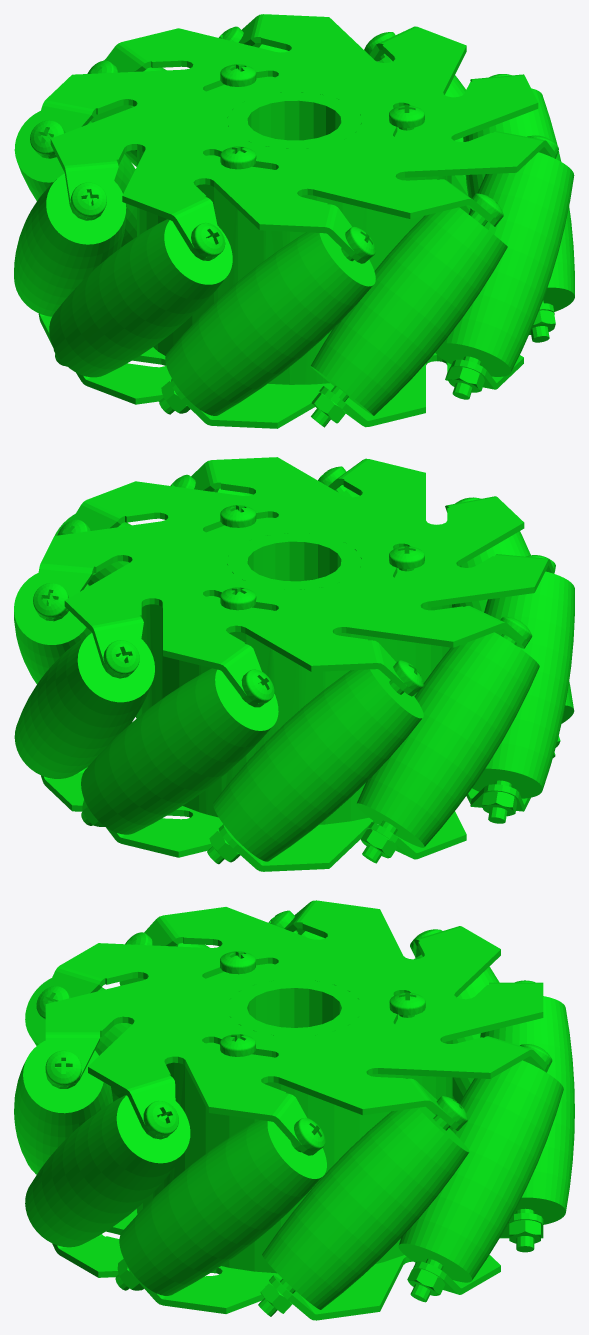
Rendered from left_back_wheel.dae.
3 views of the same model, one above another, from view 1: azimuth 30°, elevation 25°; view 2: azimuth 150°, elevation 25°; view 3: azimuth 270°, elevation 25° (orthographic).
Parts seen in each view (by area): view 1: Wheel Left Back; view 2: Wheel Left Back; view 3: Wheel Left Back.
Part boxes in pixels (<box>): Wheel Left Back: <box>14,14,574,428</box>; Wheel Left Back: <box>14,457,574,871</box>; Wheel Left Back: <box>14,900,574,1320</box>.
Bounding box in the file's own units: 0.1252 × 0.124 × 0.0631.
